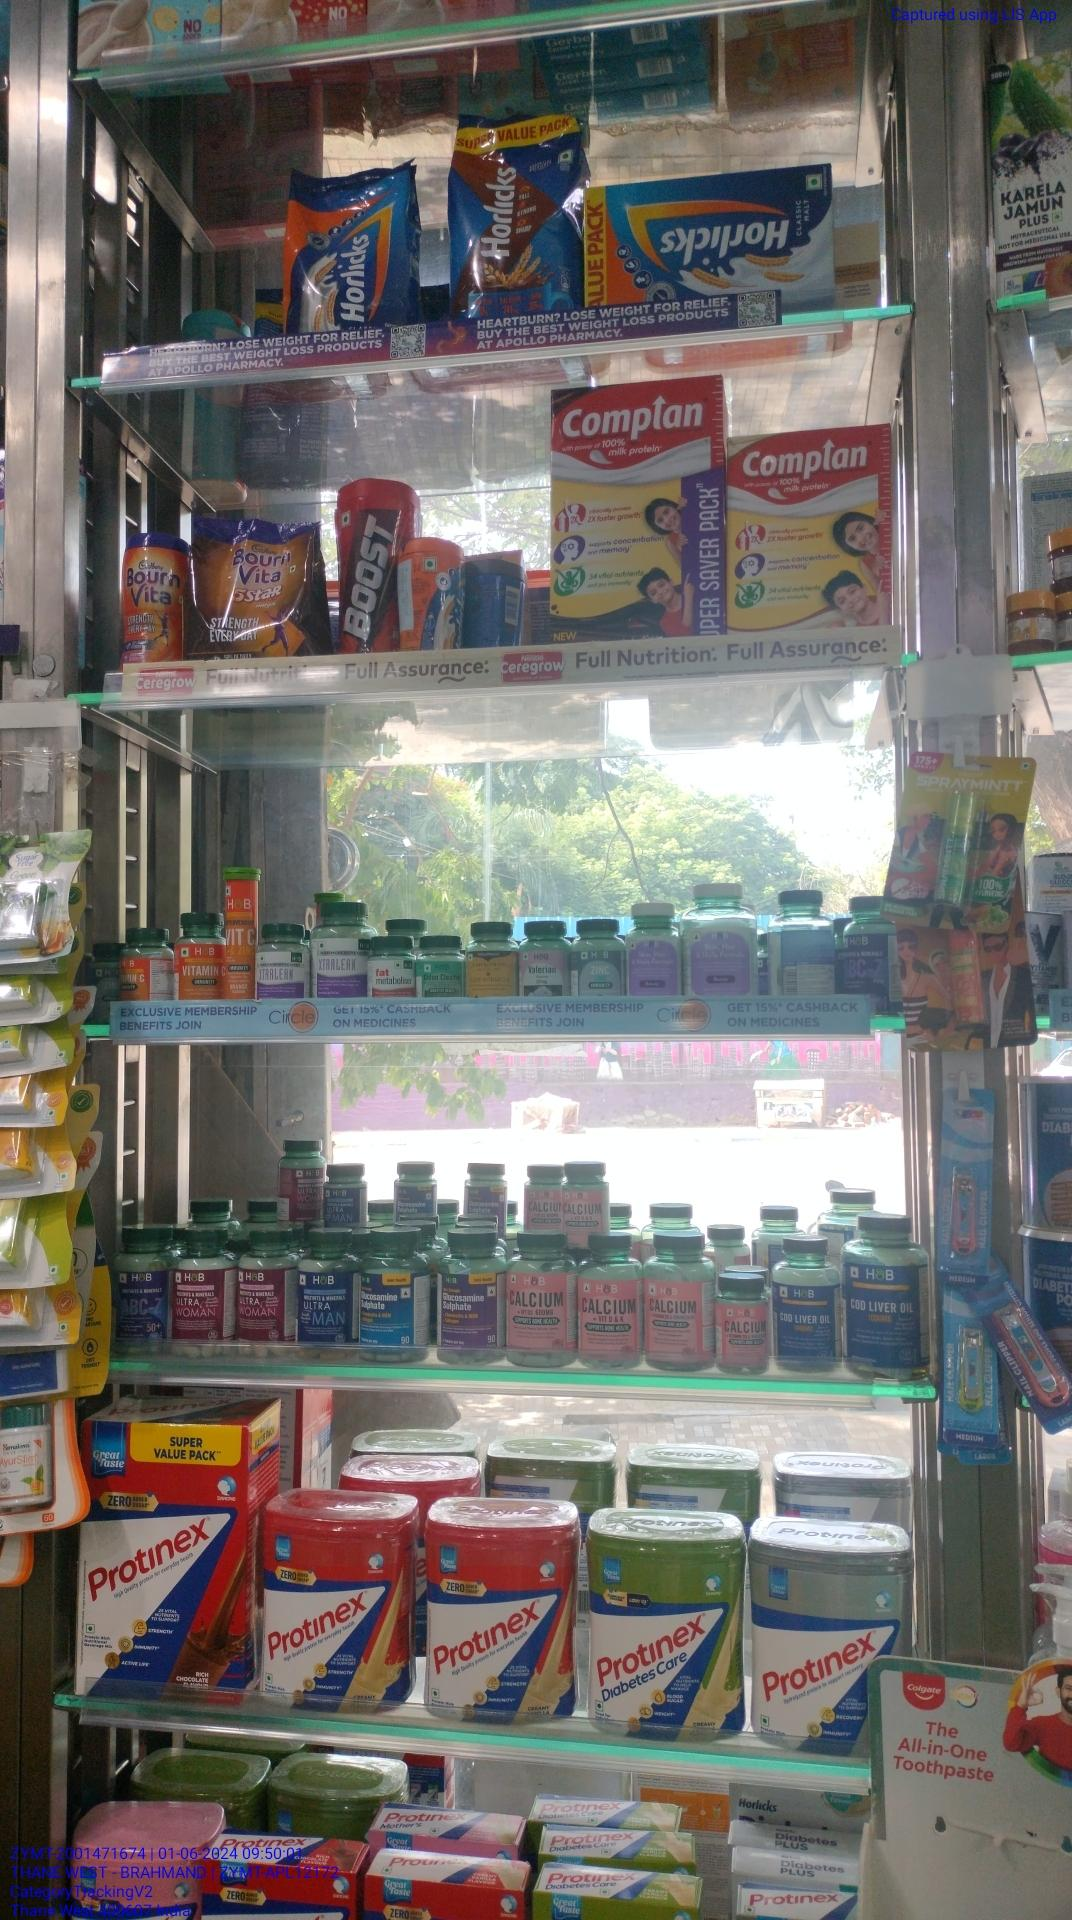BOURN_VITA_200_G_JAR: (120, 534, 186, 676)
PROTINEX_ORIGINAL_400_G_JAR: (753, 1514, 898, 1750)
PROTINEX_VANILLA_400_G_JAR: (425, 1503, 581, 1722), (261, 1489, 411, 1709)
